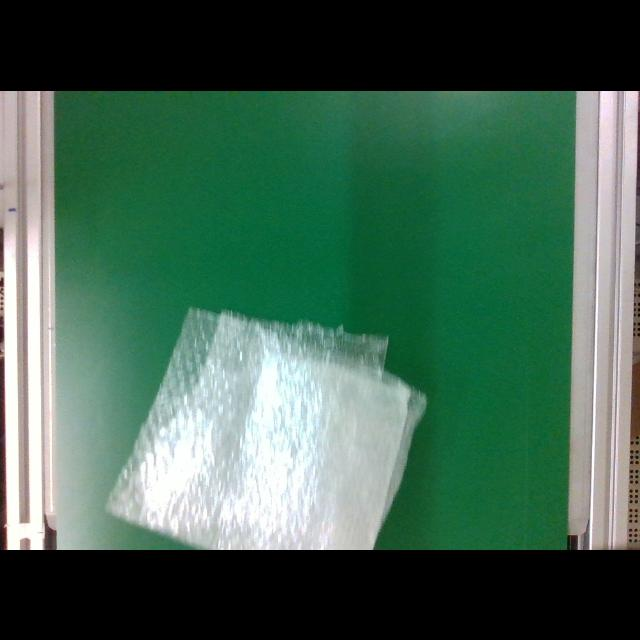scrap_plastic: (101, 295, 426, 549)
